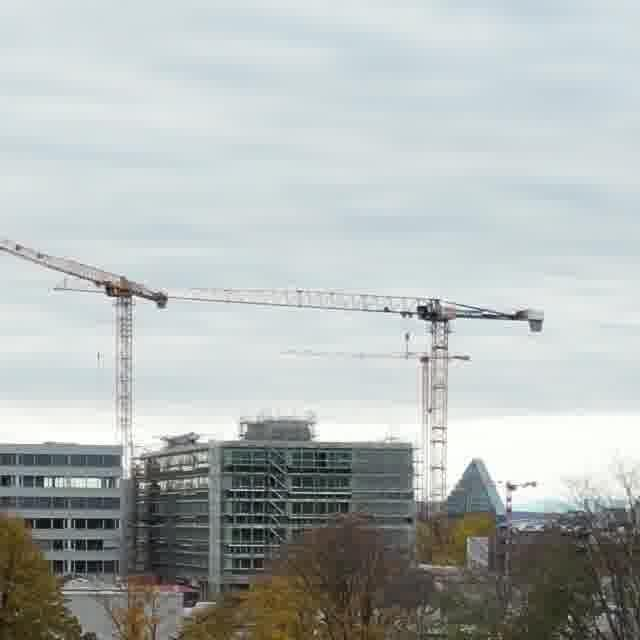Drohne: (161, 432, 199, 447)
